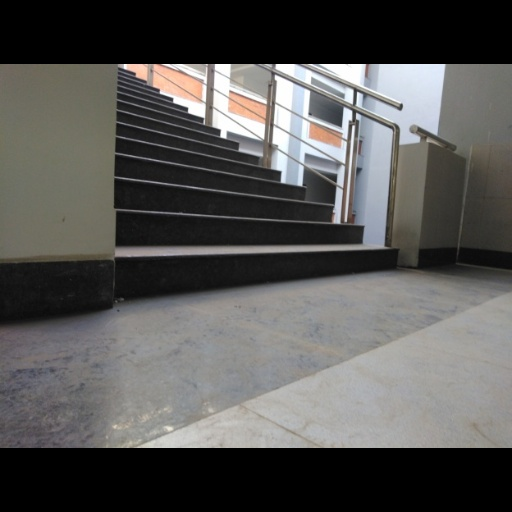Stairs: (116, 69, 396, 295)
